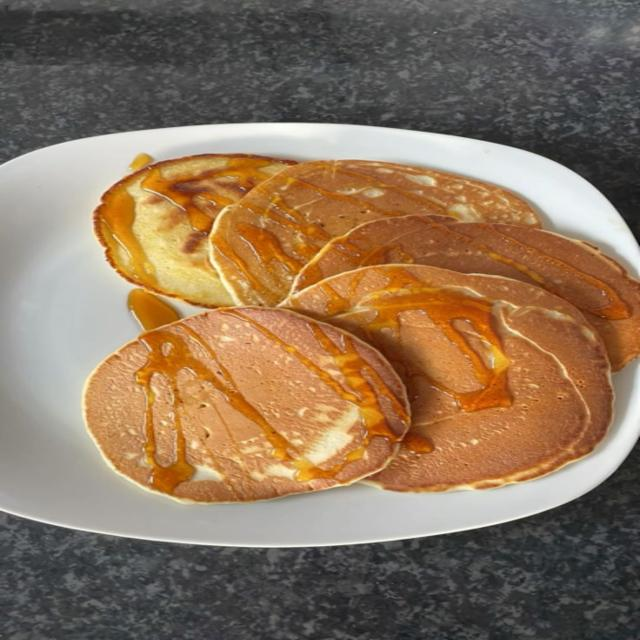pancake: (284, 265, 612, 491), (85, 308, 409, 502), (293, 216, 639, 370), (211, 160, 539, 305), (94, 155, 294, 306)
